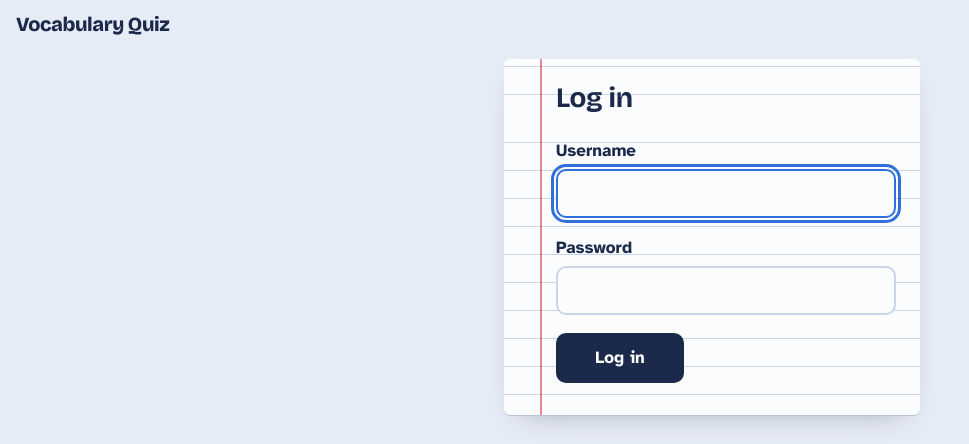
Test: Login (AC31) › logs in and navigates to home
Type "alice" into the field labelled "Username" at (726, 193), box top-left (556, 169), bottom-right (896, 218)
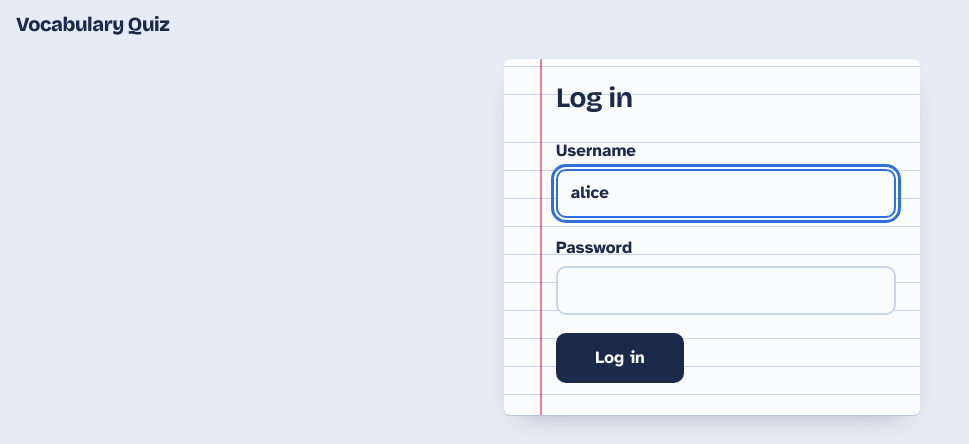
Type "secret" into the password field labelled "Password" at (726, 291), box top-left (556, 266), bottom-right (896, 315)
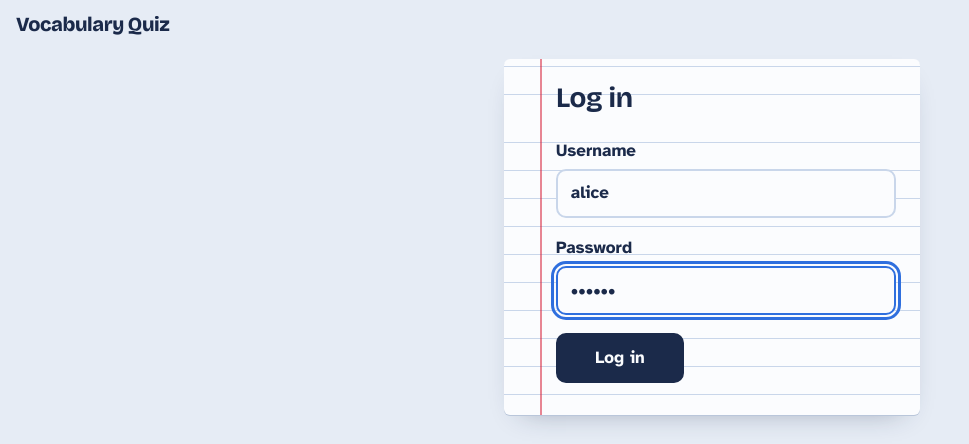
Click the button "Log in" at (620, 358), box top-left (556, 332), bottom-right (684, 383)
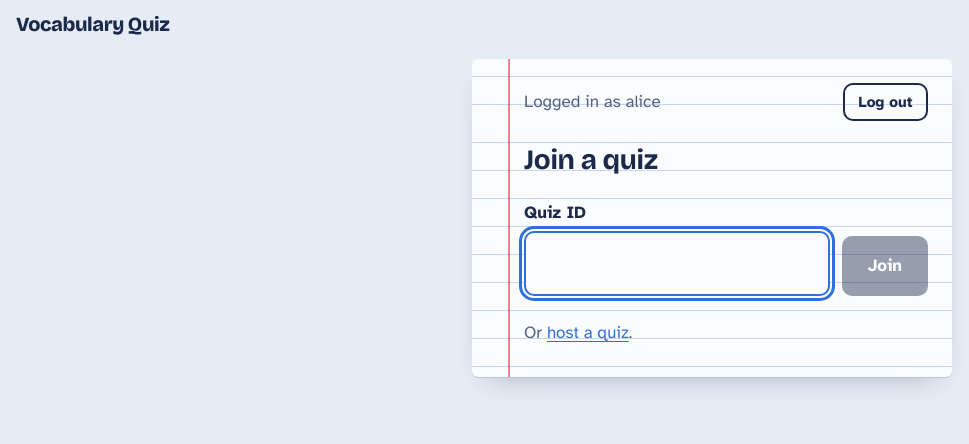
Expected: the heading "Join a quiz" is shown, top-left (524, 143), bottom-right (658, 177)
Expected: the text "Logged in as alice Log out" is shown, top-left (524, 83), bottom-right (928, 121)
